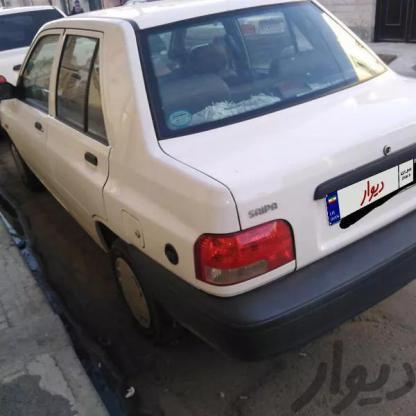Car: (0, 0, 416, 356)
